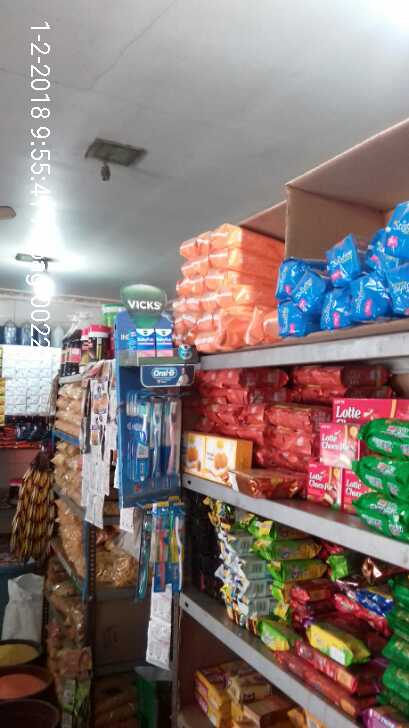pharmacy: (131, 502, 166, 590), (123, 394, 154, 486), (160, 398, 184, 487), (127, 318, 177, 356), (173, 506, 193, 591)
